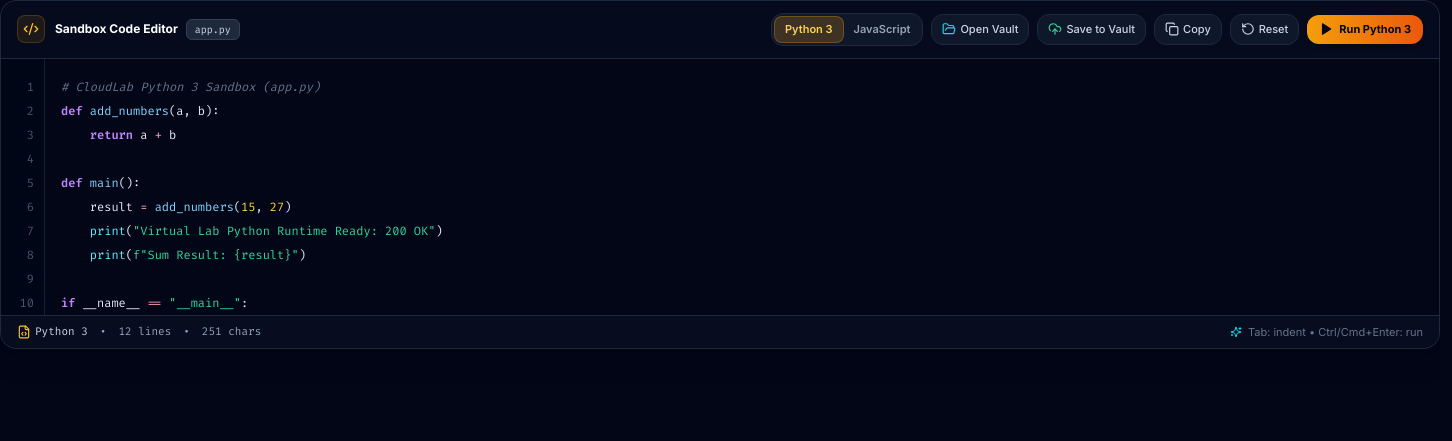
Test case: CodeEditor Component › opens and decrypts a .js file from Encrypted Vault and switches language
Click the button "Open Vault". click: (980, 29)
box: [931,14,1029,44]
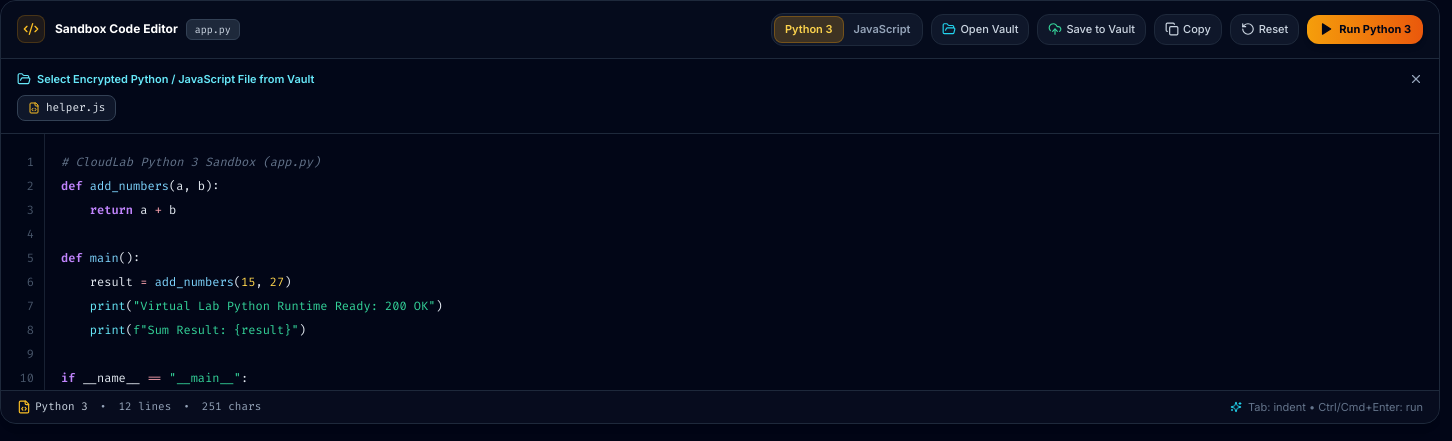
Now the text "helper.js" is shown, box [46,100,105,116]
Click the button "helper.js". click: (67, 108)
box: [17,94,116,120]
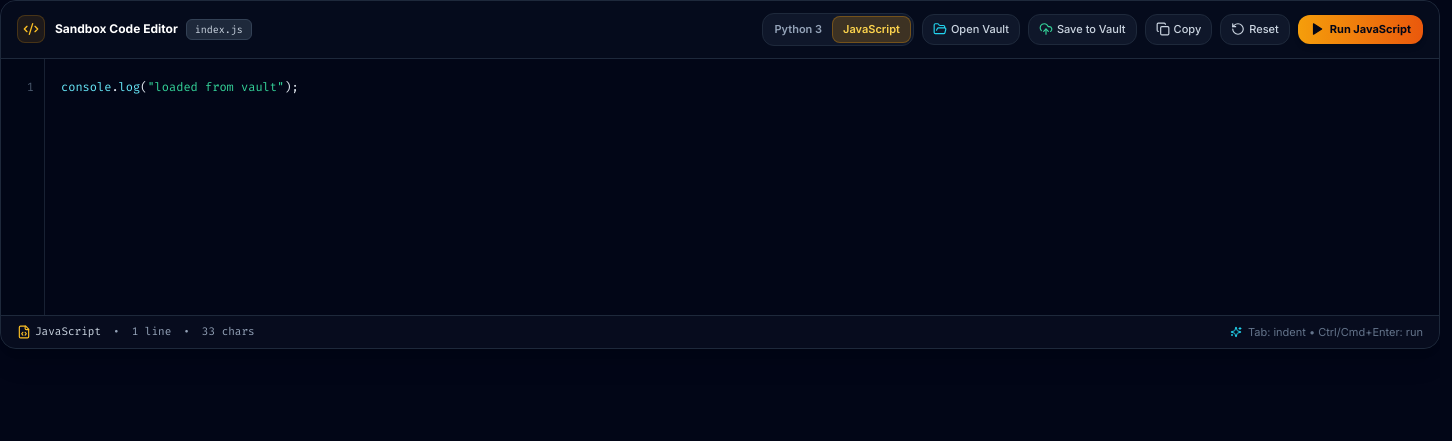
Now the text box named "JavaScript code editor" holds "console.log(\"loaded from vault\");", box [45,58,1439,314]
